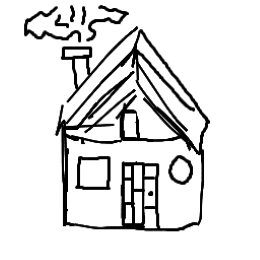door: (116, 155, 164, 239)
open_window: (72, 151, 114, 196), (165, 152, 198, 187)
roof: (51, 24, 211, 154)
smoking_chimney: (20, 0, 129, 90)
wall: (50, 129, 207, 238)
